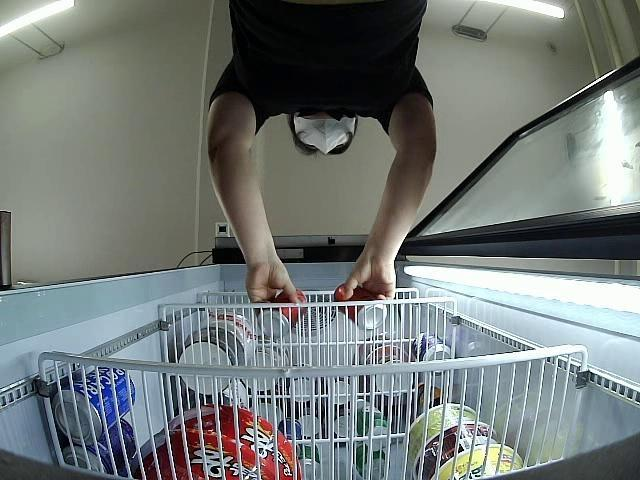11_cocaColaZero: (259, 288, 311, 334), (334, 286, 386, 330)
